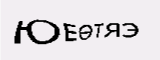К: (58, 22, 73, 44)
С: (100, 22, 120, 49), (74, 22, 87, 45)
Ф: (38, 20, 56, 46)
Х: (85, 26, 99, 48)
